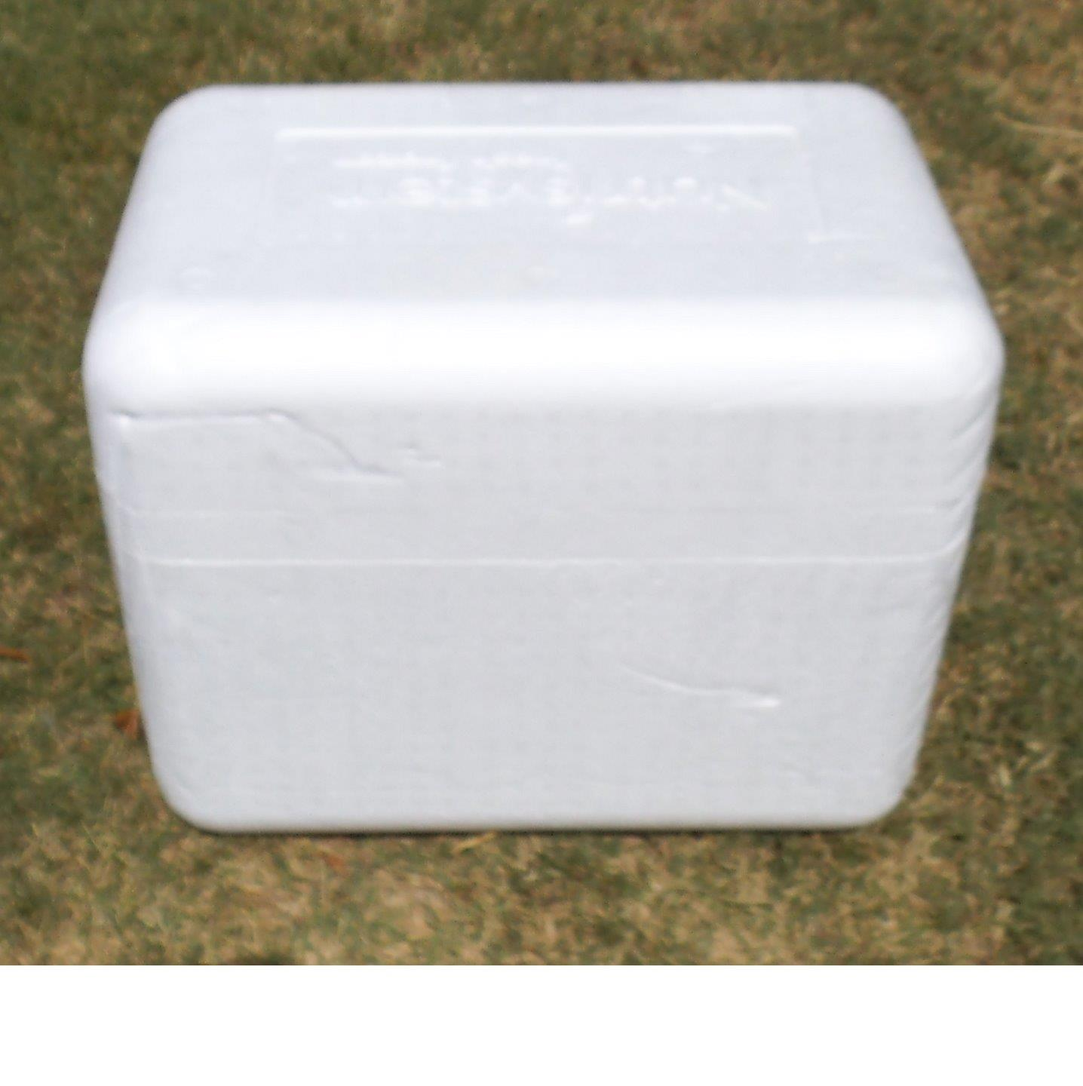泡沫箱: (84, 85, 1002, 831)
